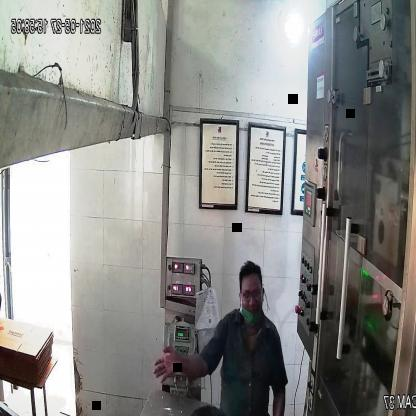goggles: (235, 284, 267, 308)
